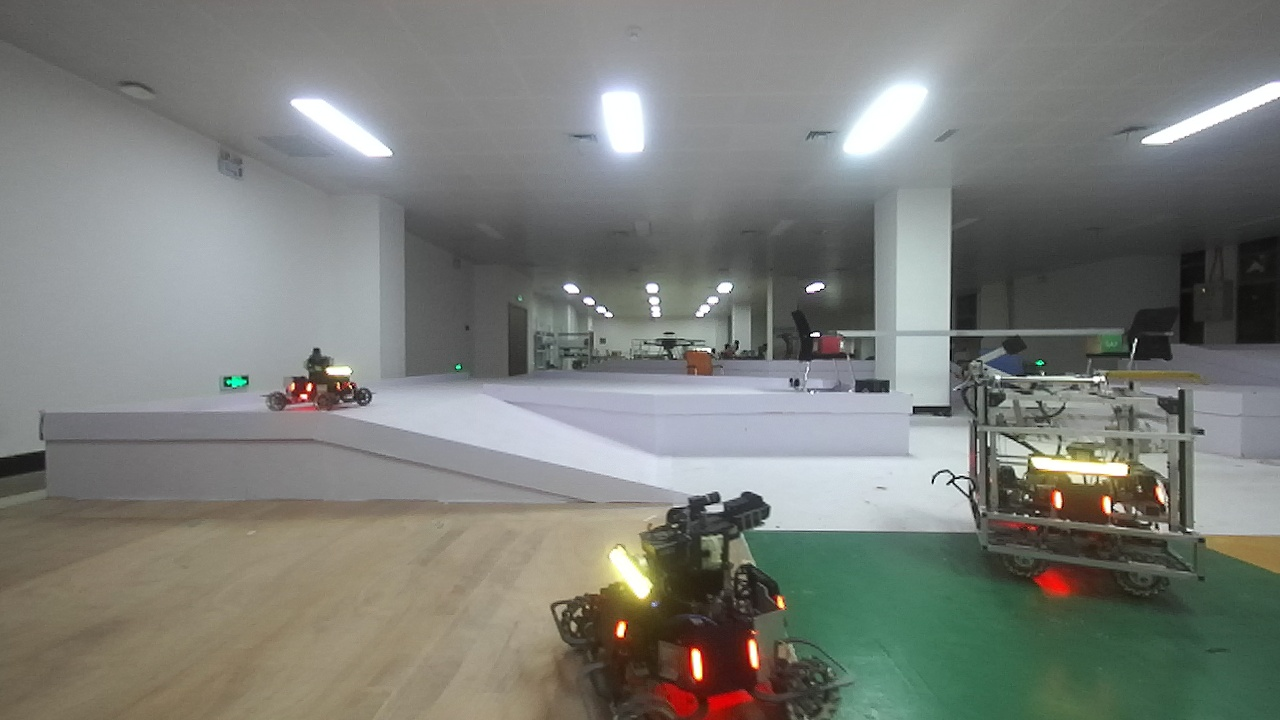car: (944, 348, 1228, 619), (530, 486, 847, 719), (266, 341, 395, 423)
